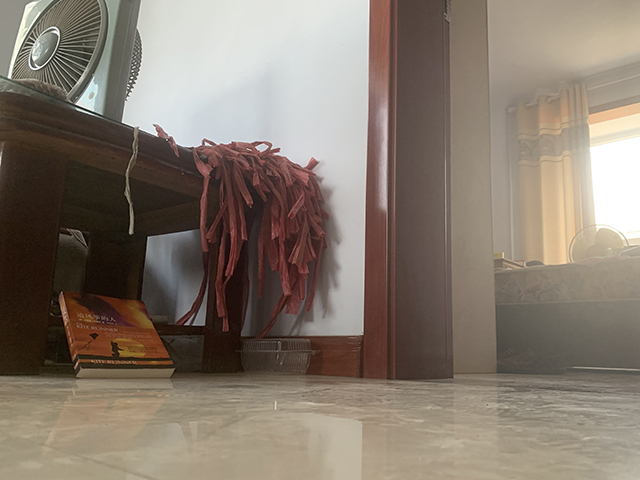bed: (494, 245, 640, 370)
book: (56, 290, 176, 378)
curtain: (509, 84, 594, 264)
table: (1, 73, 261, 374)
